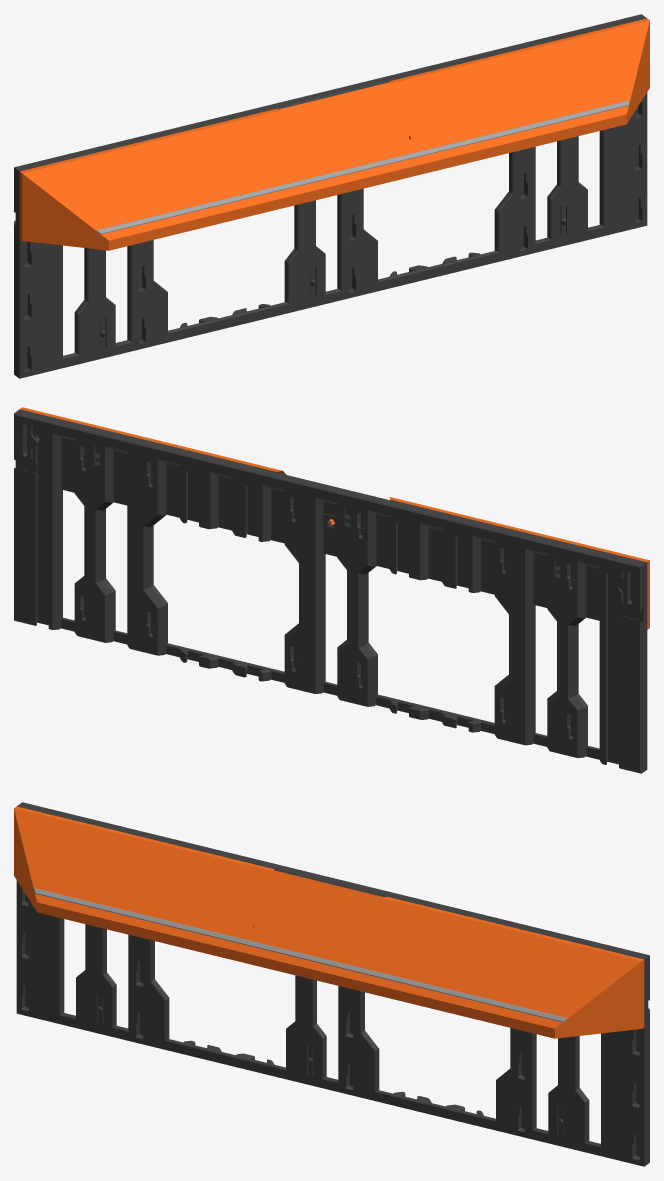
Rendered from Faceplate_ClassicPro_3W-15H.lib.glb.
3 renders of one model, top to bottom at view 1: azimuth 30°, elevation 25°; view 2: azimuth 150°, elevation 25°; view 3: azimuth 330°, elevation 25°, orthographic.
Parts seen in each view (by area): view 1: Faceplate_ClassicPro_3W-15H; view 2: Faceplate_ClassicPro_3W-15H; view 3: Faceplate_ClassicPro_3W-15H.
Boxes of the visible parts, <box> form: Faceplate_ClassicPro_3W-15H: <box>14,14,649,378</box>; Faceplate_ClassicPro_3W-15H: <box>14,407,649,773</box>; Faceplate_ClassicPro_3W-15H: <box>14,802,649,1166</box>.
Size of the model in its own units: 263 by 83 by 29.5.
